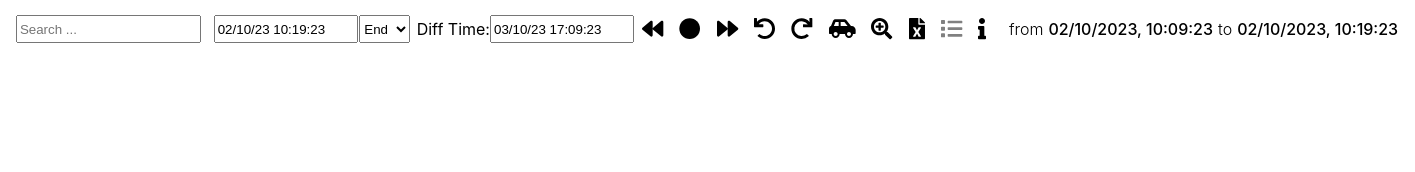
Controls Component › Set Start time
Select "Start" in the dropdown with test id "select" at [385, 29], box [359,15,410,43]
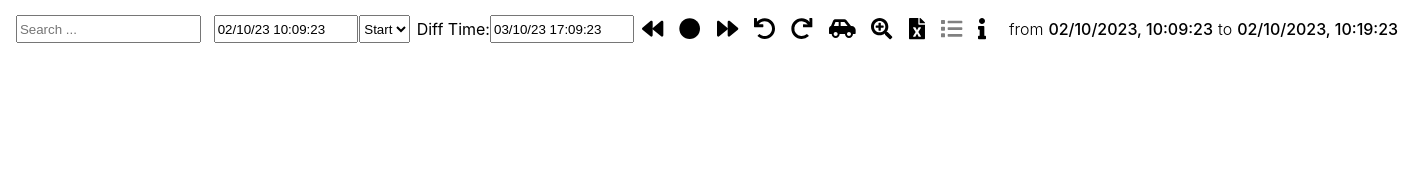
Check: the text "02/10/2023, 10:09:23" is shown, box [1048,19,1213,39]
Check: the field titled "Start/end timestamp" holds "02/10/23 10:09:23", box [214,15,358,43]
